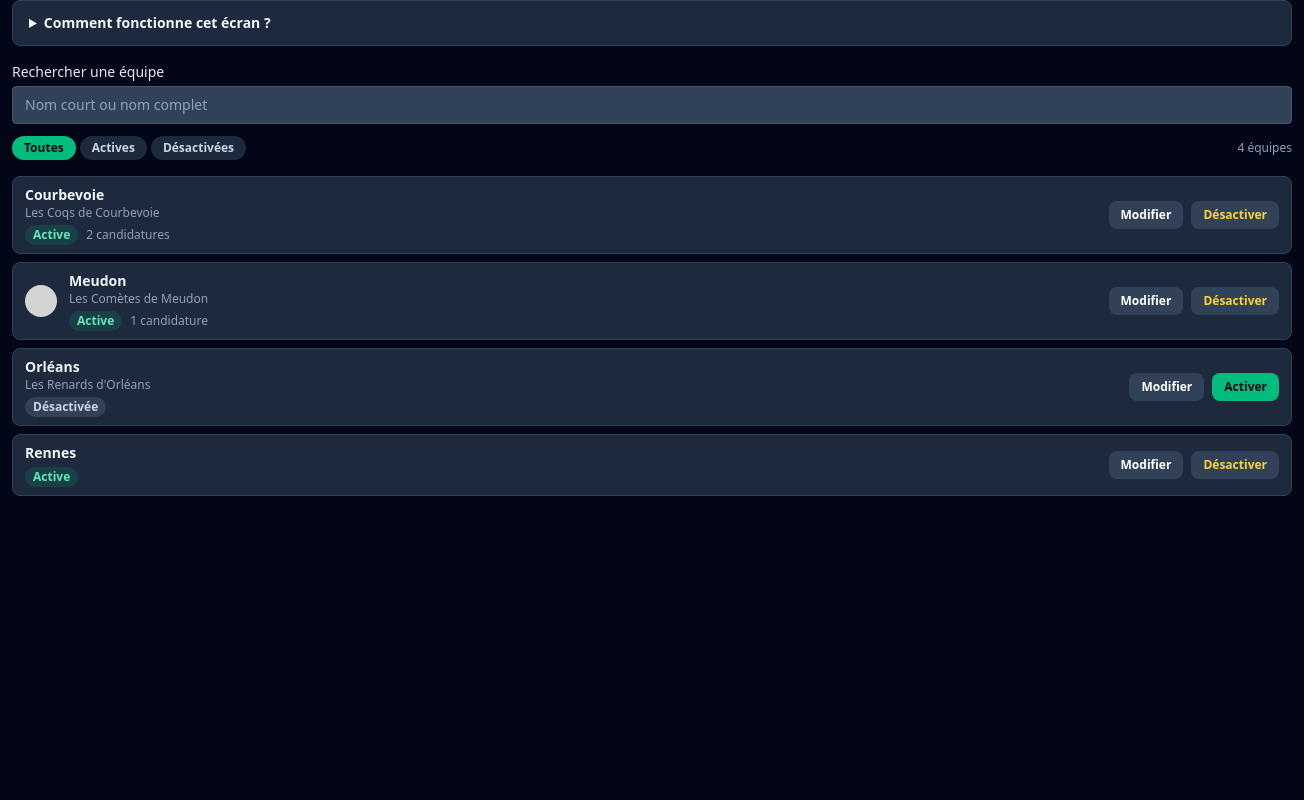
Test: GestionEquipesReferentiel — modification des noms (CA4, CA5) › ouvre l'édition d'une équipe avec ses deux champs préremplis et leurs longueurs maximales
Click the button with aria-label "Modifier Rennes" at (1146, 465), box [1108,451,1183,479]
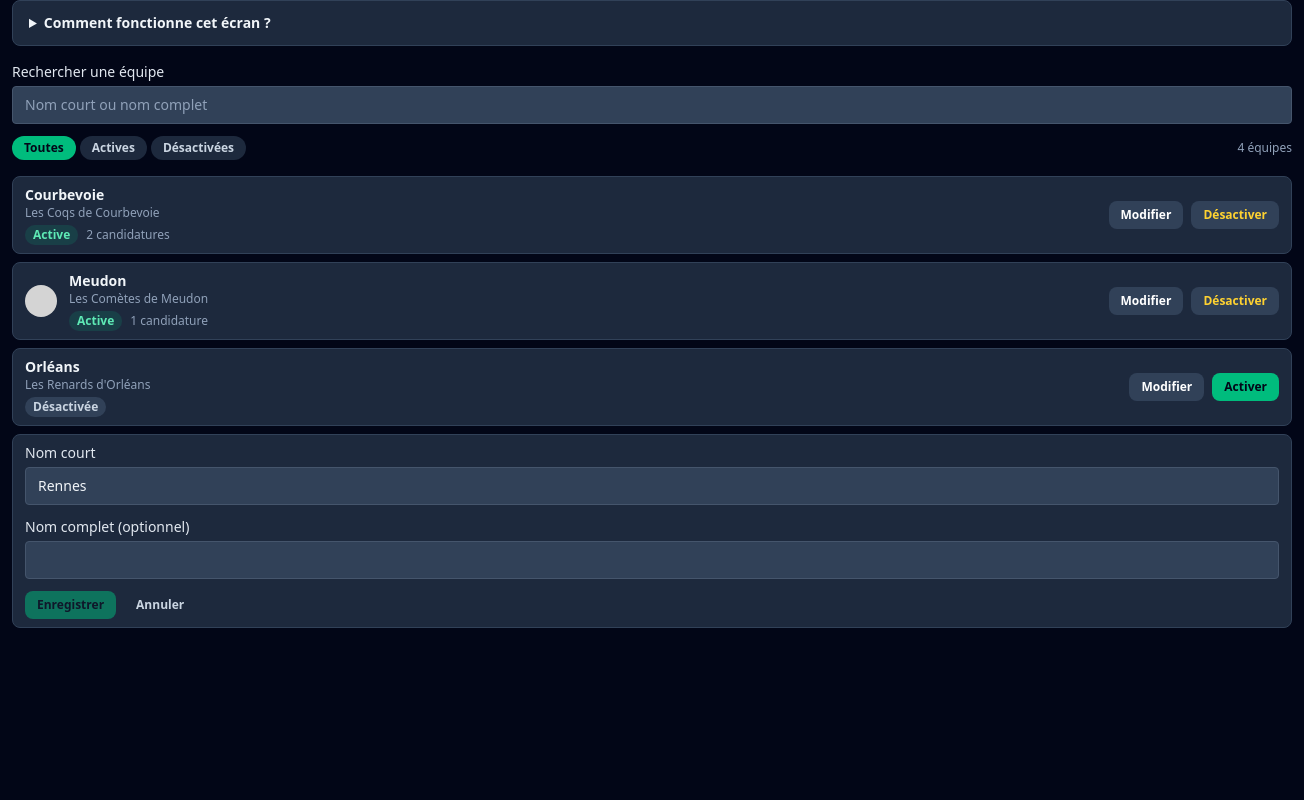
Now the field labelled "Nom court" holds "Rennes", box [25,467,1279,505]
Now the field labelled "Nom complet (optionnel)" is empty, box [25,541,1279,579]
